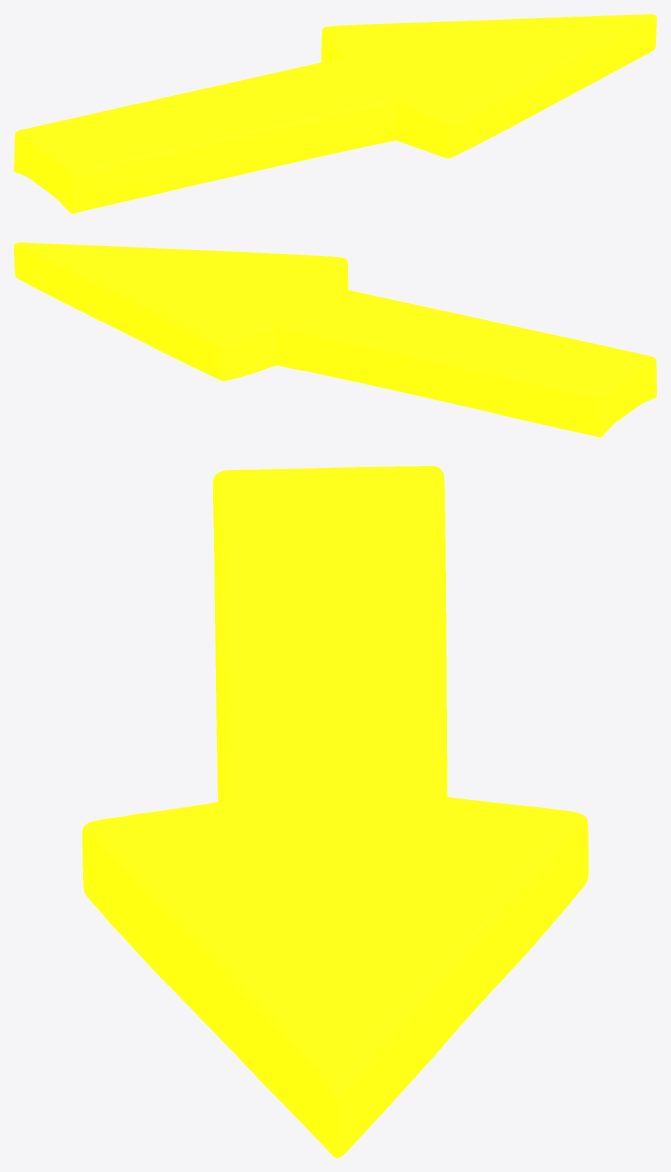
3 views of the same model, one above another, from view 1: azimuth 30°, elevation 25°; view 2: azimuth 150°, elevation 25°; view 3: azimuth 270°, elevation 25° (orthographic). The views are drawn at different scales.
Visible parts, largest first — view 1: Mesh_0.001; view 2: Mesh_0.001; view 3: Mesh_0.001.
Part boxes in pixels (x1,y1,x2,y2): Mesh_0.001: (14,14,656,213); Mesh_0.001: (14,242,656,437); Mesh_0.001: (82,466,588,1157).
Bounding box in the file's own units: 2 × 0.1624 × 0.716.
